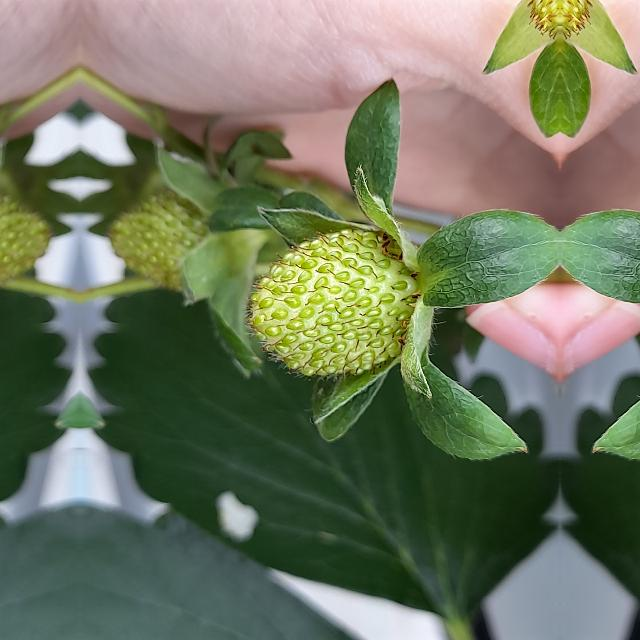Health_25: (242, 223, 418, 383)
